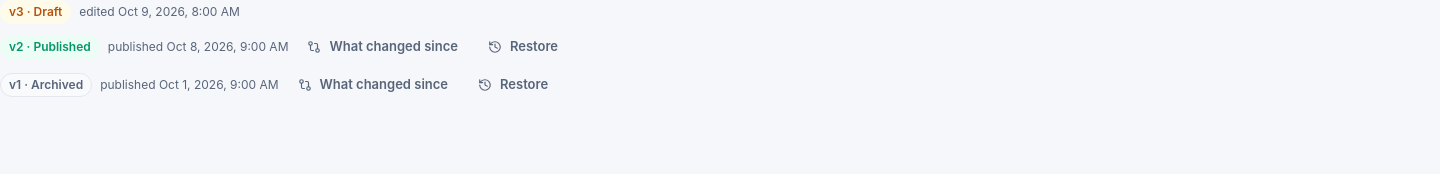
Test: versions of a form › keeping the draft changes nothing
The width and height of the screenshot is (1440, 174).
Click the button with aria-label "Restore v1": click(513, 85) [467,70,559,100]
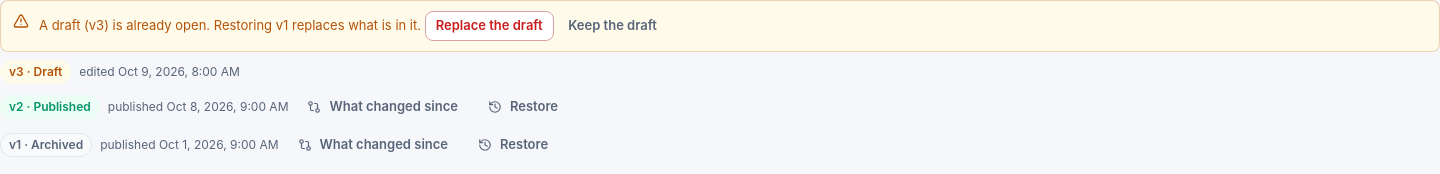
Click the button "Keep the draft": click(613, 26) [557,11,668,41]
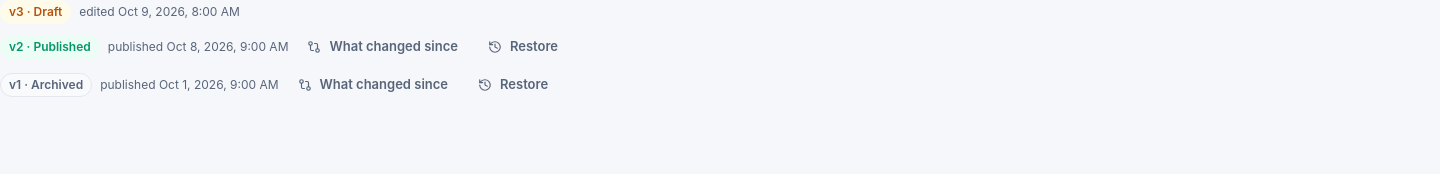
Expected: the text "already open" is gone
